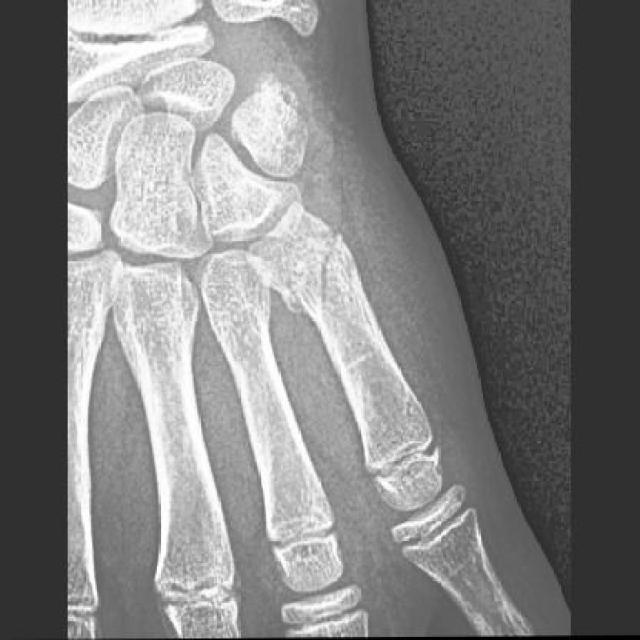Fracture: (280, 233, 374, 355)
